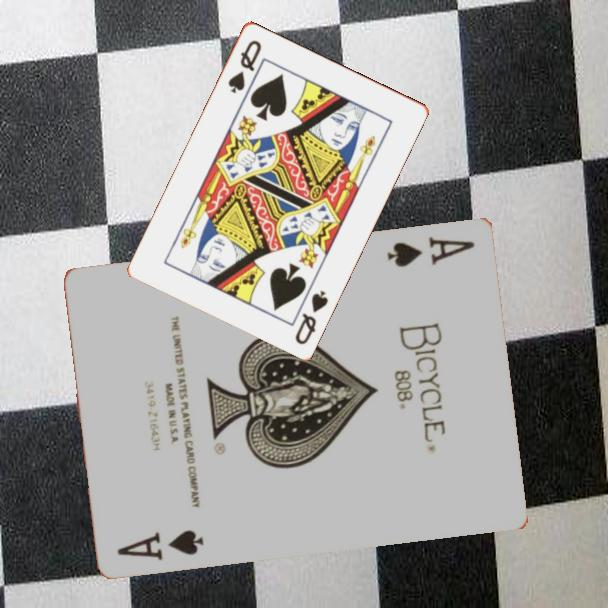s01: (384, 232, 478, 270), (114, 526, 207, 563)
s12: (291, 286, 331, 347), (224, 36, 264, 96)
